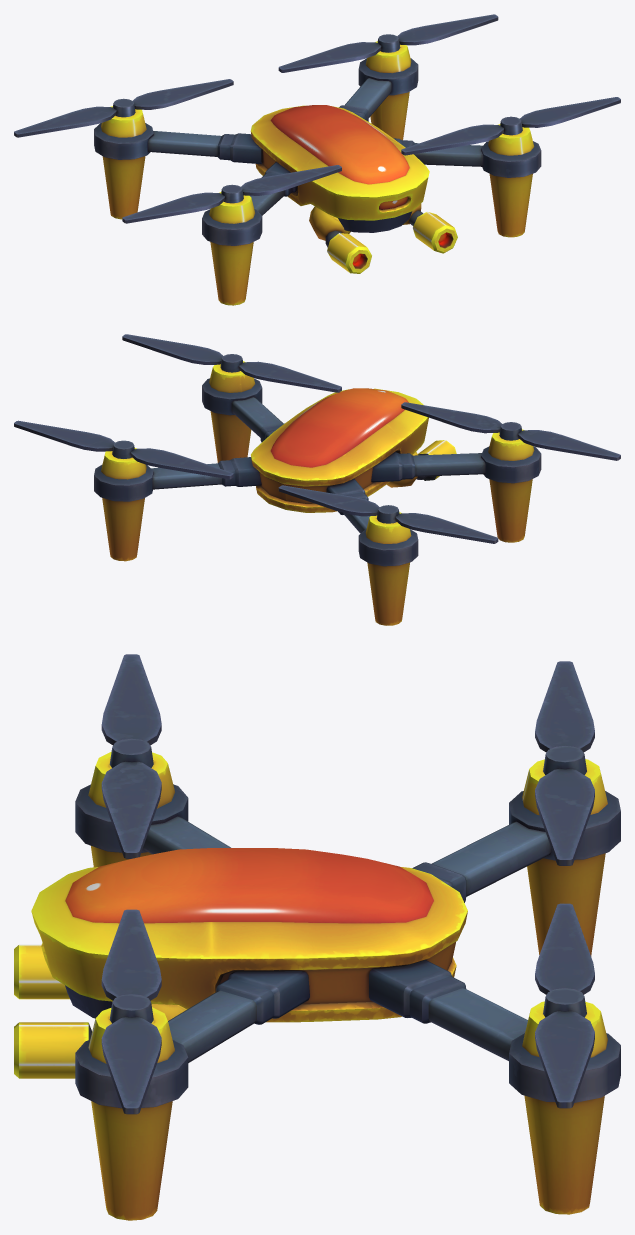
The model's file is drone_missile.fbx.
The picture shows the model from 3 angles, top to bottom: view 1: azimuth 30°, elevation 25°; view 2: azimuth 150°, elevation 25°; view 3: azimuth 270°, elevation 25°; orthographic projection. The views are drawn at different scales.
Visible parts, largest first — view 1: Cube.003, Cylinder.056, Cylinder.060, Cylinder.050, Cylinder.061, Sphere.004, Sphere.005; view 2: Cube.003, Cylinder.056, Cylinder.061, Cylinder.050, Cylinder.060, Sphere.004; view 3: Cube.003, Cylinder.050, Cylinder.056, Cylinder.060, Cylinder.061, Sphere.005, Sphere.004.
Boxes of the visible parts, x1,y1,x2,y2 form: Cube.003: (94,41,541,305); Cylinder.056: (278,14,498,72); Cylinder.060: (122,165,341,223); Cylinder.050: (401,97,620,155); Cylinder.061: (14,79,233,137); Sphere.004: (309,206,371,273); Sphere.005: (403,203,457,253); Cube.003: (94,361,541,625); Cylinder.056: (14,420,233,479); Cylinder.061: (278,485,498,543); Cylinder.050: (122,334,341,392); Cylinder.060: (401,402,620,460); Sphere.004: (386,440,456,487); Cube.003: (31,751,620,1220); Cylinder.050: (101,909,161,1114); Cylinder.056: (535,903,594,1108); Cylinder.060: (101,654,161,858); Cylinder.061: (535,661,594,865); Sphere.005: (14,1004,186,1078); Sphere.004: (14,944,69,999).
Size of the model in its own units: 911 by 203 by 515.
